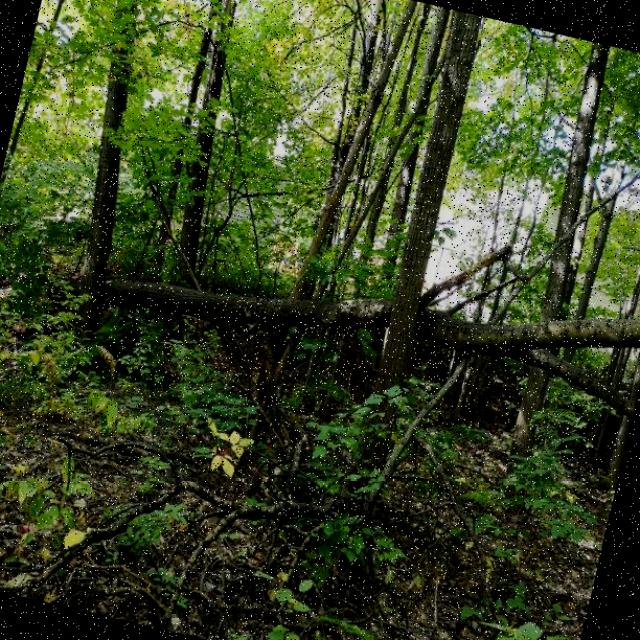fallen_object: (15, 158, 640, 509), (0, 293, 507, 640)
